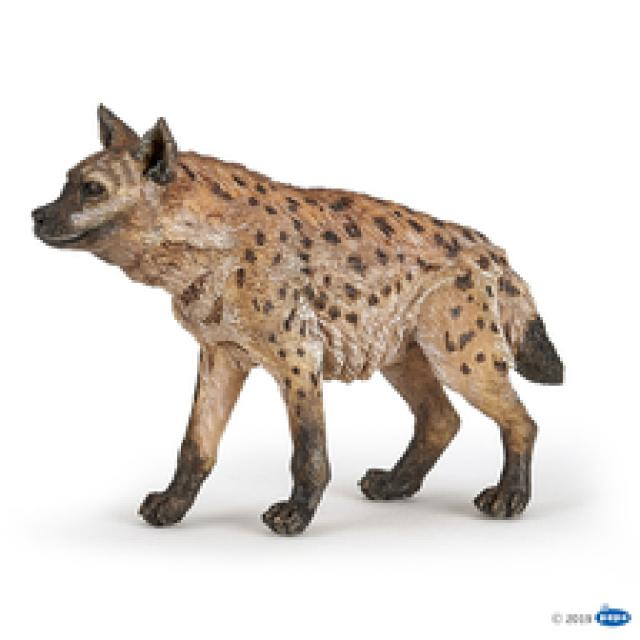hyena: (19, 72, 557, 543)
